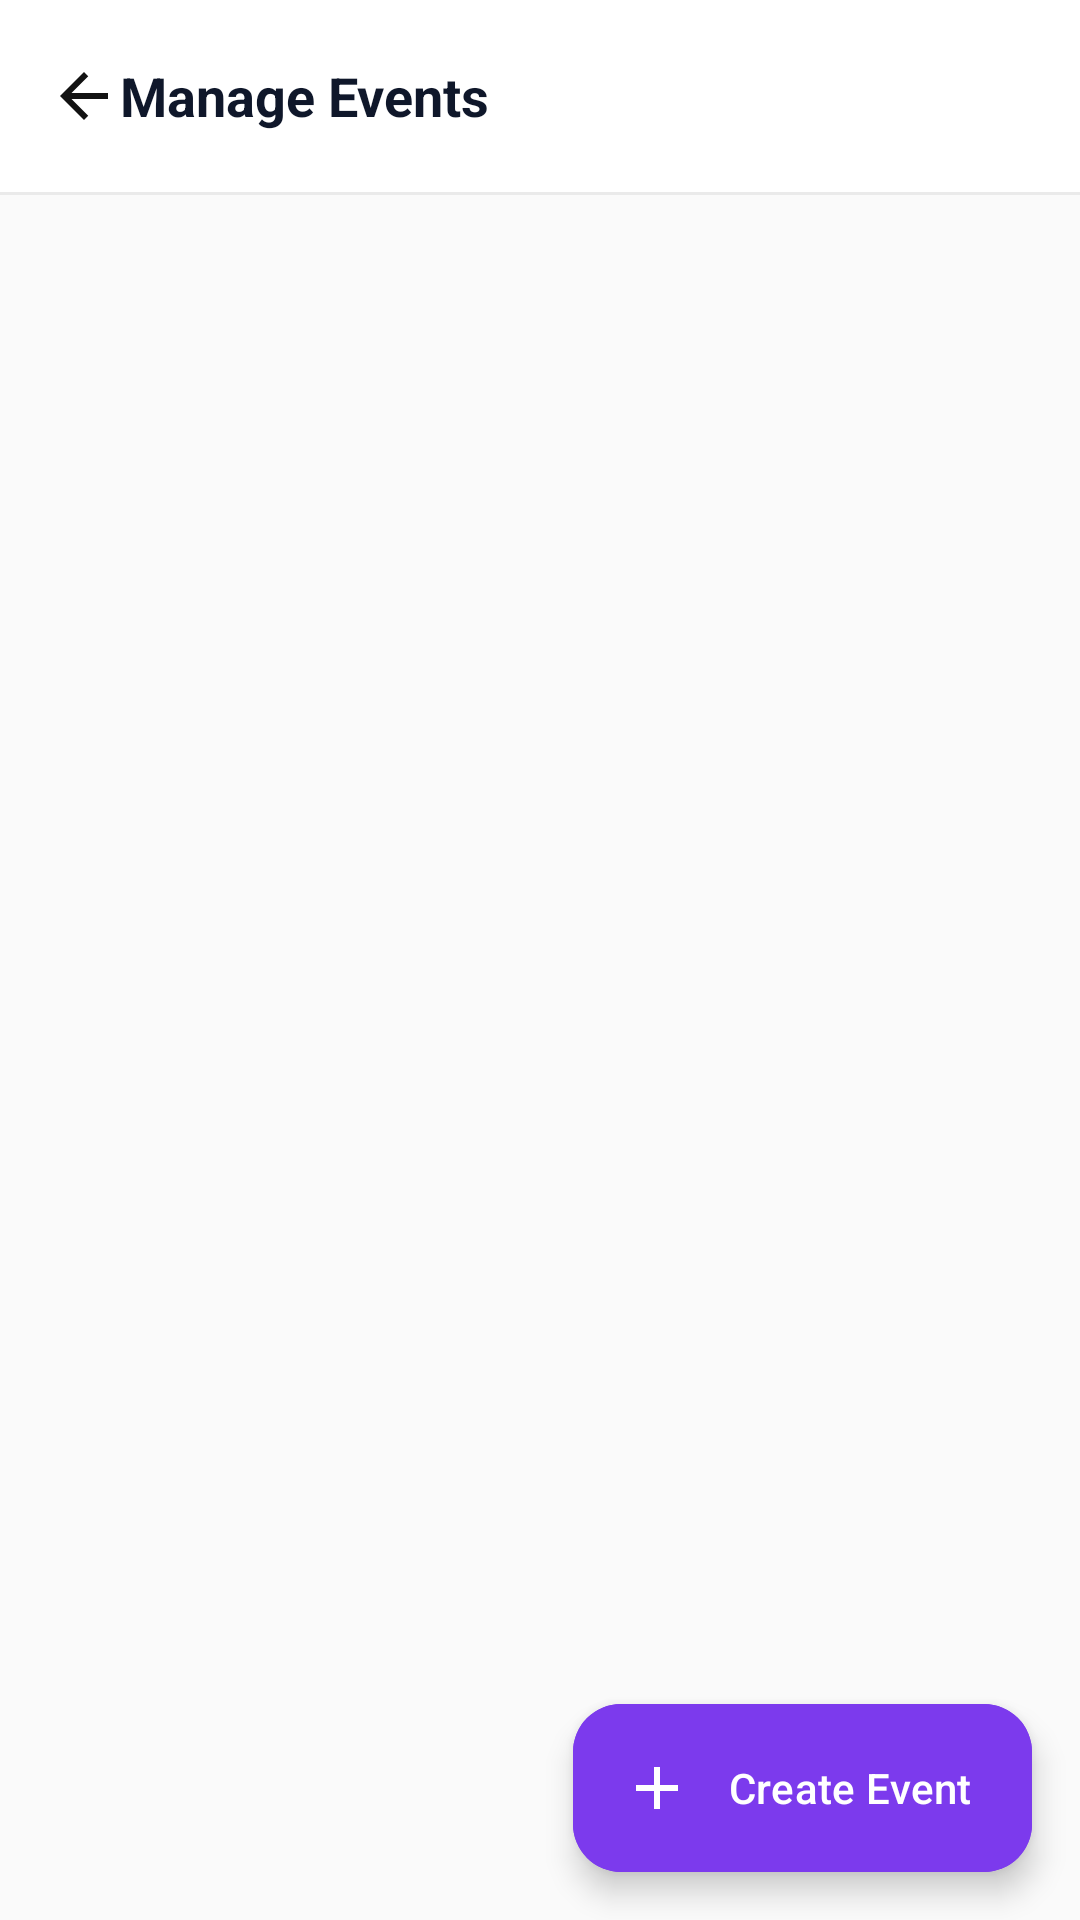

Locate icon controls on the screen. Image size 1080 x 1920, boxes as [x1, y1, x2, y2].
Back: [60, 72, 108, 120]
